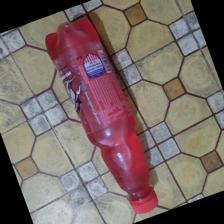Sting: (44, 16, 159, 214)
